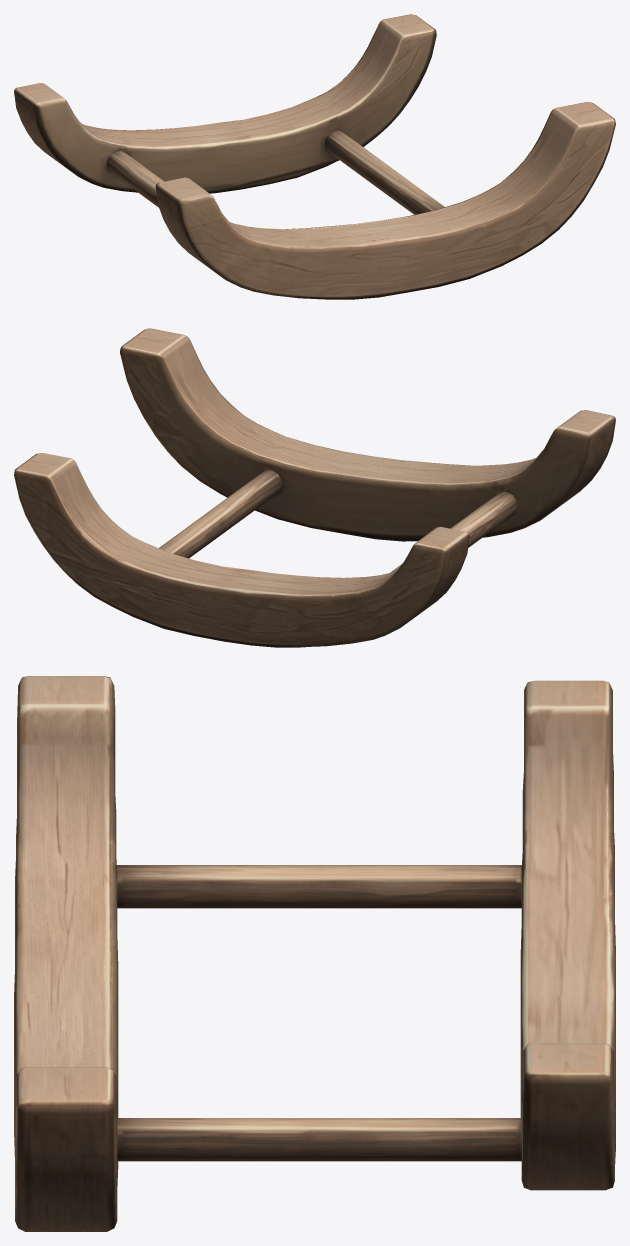
File: act1_kit_v1_rocker_runners.glb
3 views of the same model, one above another, from view 1: azimuth 30°, elevation 25°; view 2: azimuth 150°, elevation 25°; view 3: azimuth 270°, elevation 25° (orthographic). The views are drawn at different scales.
Visible parts, largest first — view 1: act1_kit_v1_rocker_runners; view 2: act1_kit_v1_rocker_runners; view 3: act1_kit_v1_rocker_runners.
Boxes of the visible parts, x1,y1,x2,y2 form: act1_kit_v1_rocker_runners: [14, 14, 615, 299]; act1_kit_v1_rocker_runners: [14, 328, 615, 647]; act1_kit_v1_rocker_runners: [14, 676, 615, 1231].
Bounding box in the file's own units: 1 × 0.3252 × 0.6526.
1 material, 1 textured.
